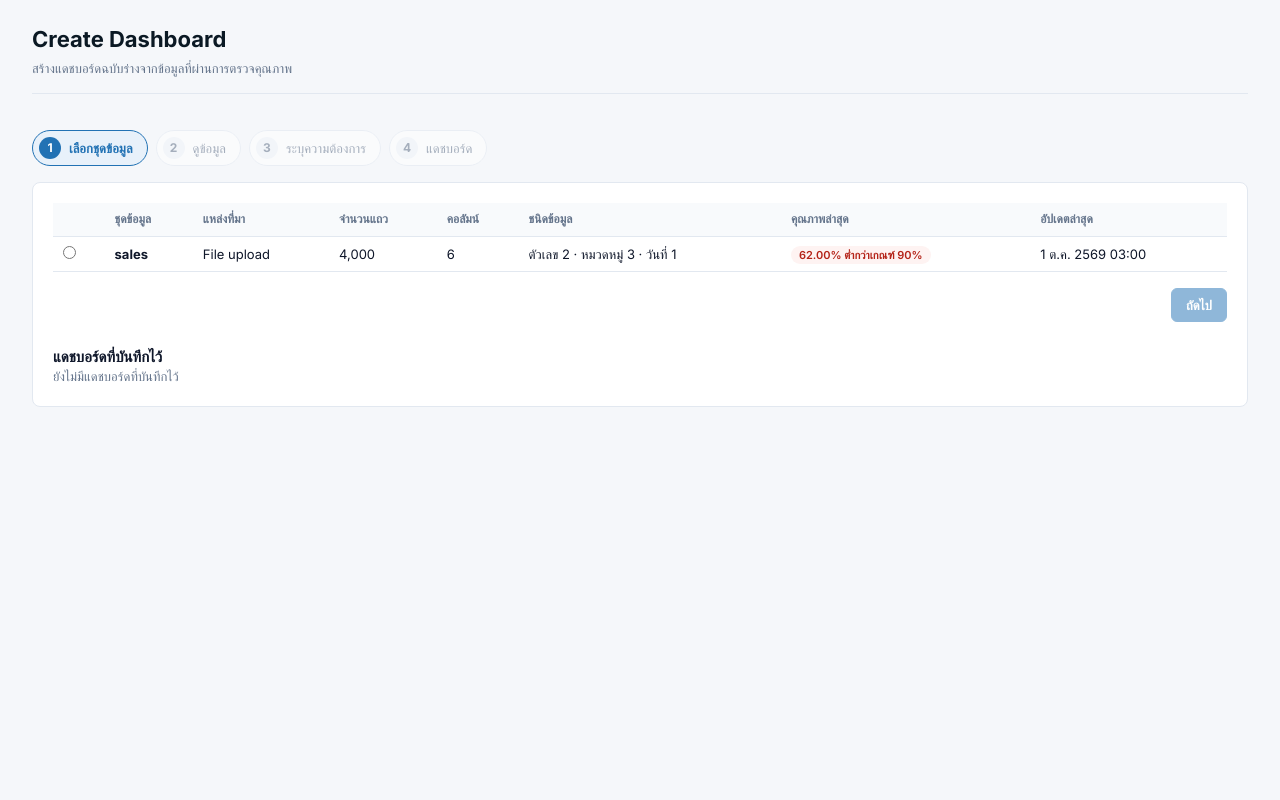
it: explains why the table holds more rows than the latest run passed
Click the radio button named "เลือก sales": (70, 252) [63,246,76,259]
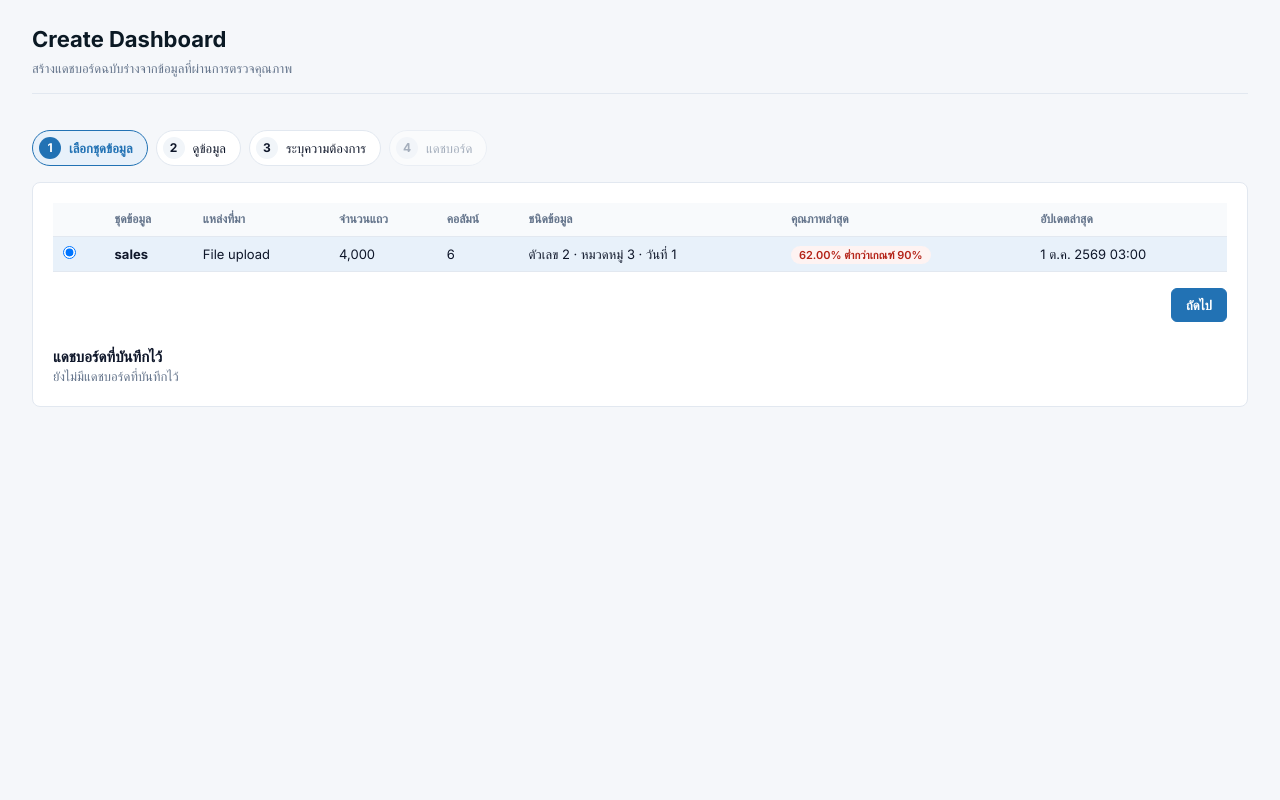
Click the button "ถัดไป": (1199, 305) [1171,288,1227,322]
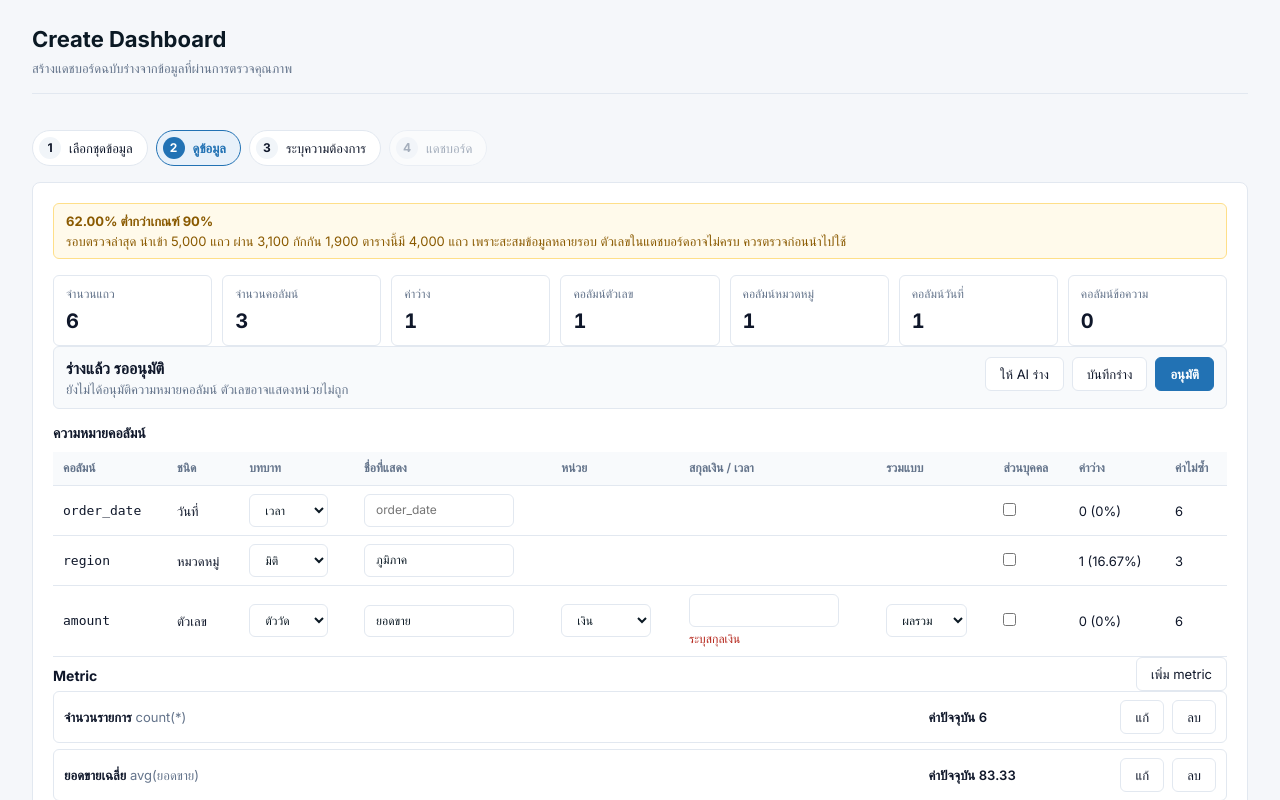
Check: the element named "คุณภาพข้อมูล" shows "ตารางนี้มี 4,000 แถว เพราะสะสมข้อมูลหลายรอบ", box [359,233,597,249]
